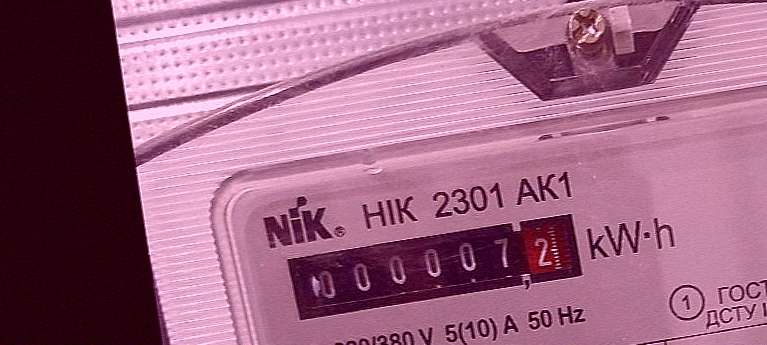0: (382, 248, 411, 289), (313, 264, 340, 302), (453, 236, 479, 275), (420, 243, 445, 283), (349, 257, 374, 294)
2: (530, 232, 556, 270)
7: (489, 232, 515, 272)
screen: (280, 204, 592, 328)
